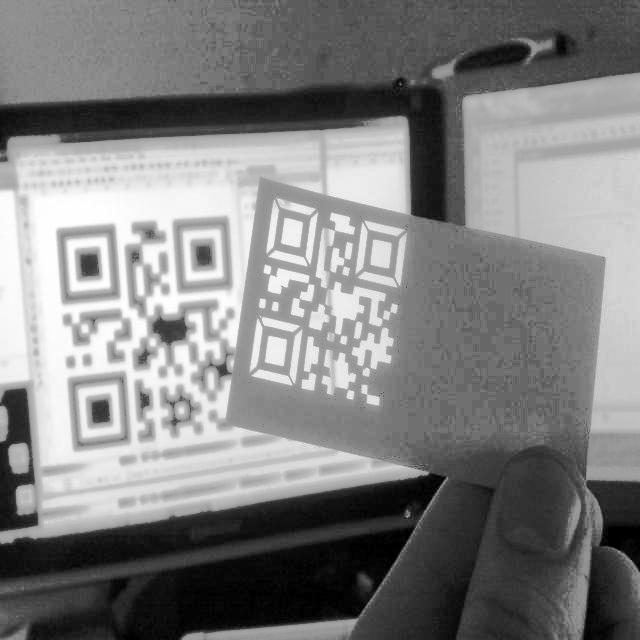qr_code: (58, 218, 233, 450), (248, 196, 408, 408)
